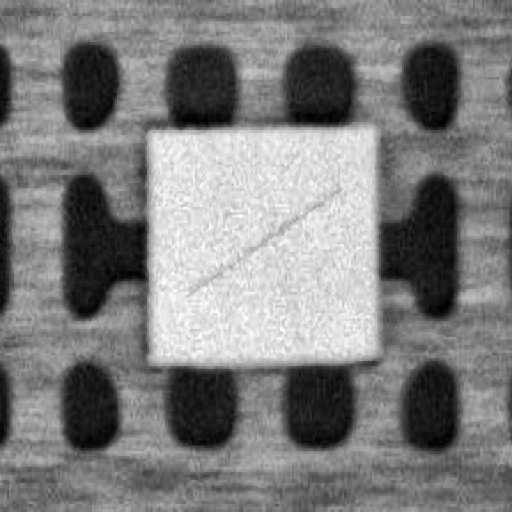DIE_CRACK: (276, 124, 507, 195)
